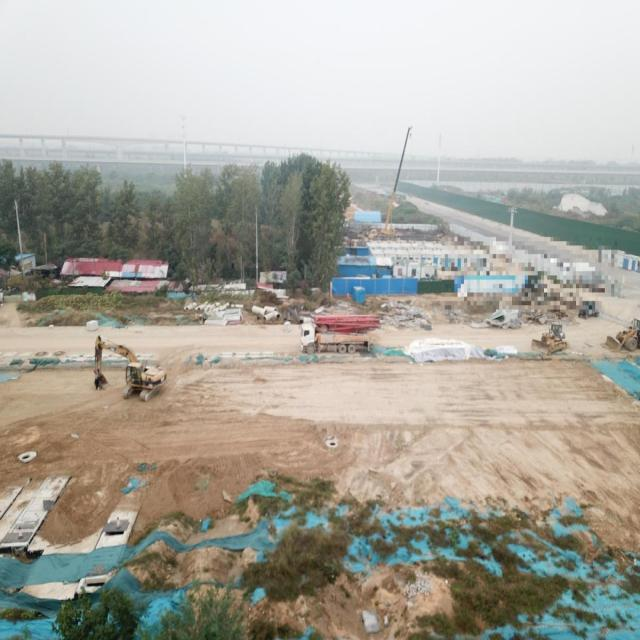crane: (366, 122, 421, 250), (298, 309, 384, 361)
excavator: (87, 329, 170, 402)
machinery: (599, 311, 640, 356), (529, 317, 572, 358)
